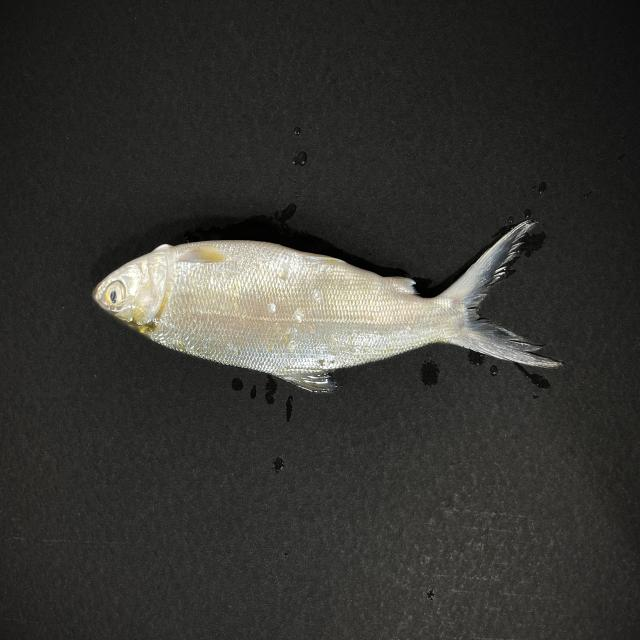315 g: (92, 218, 564, 392)
